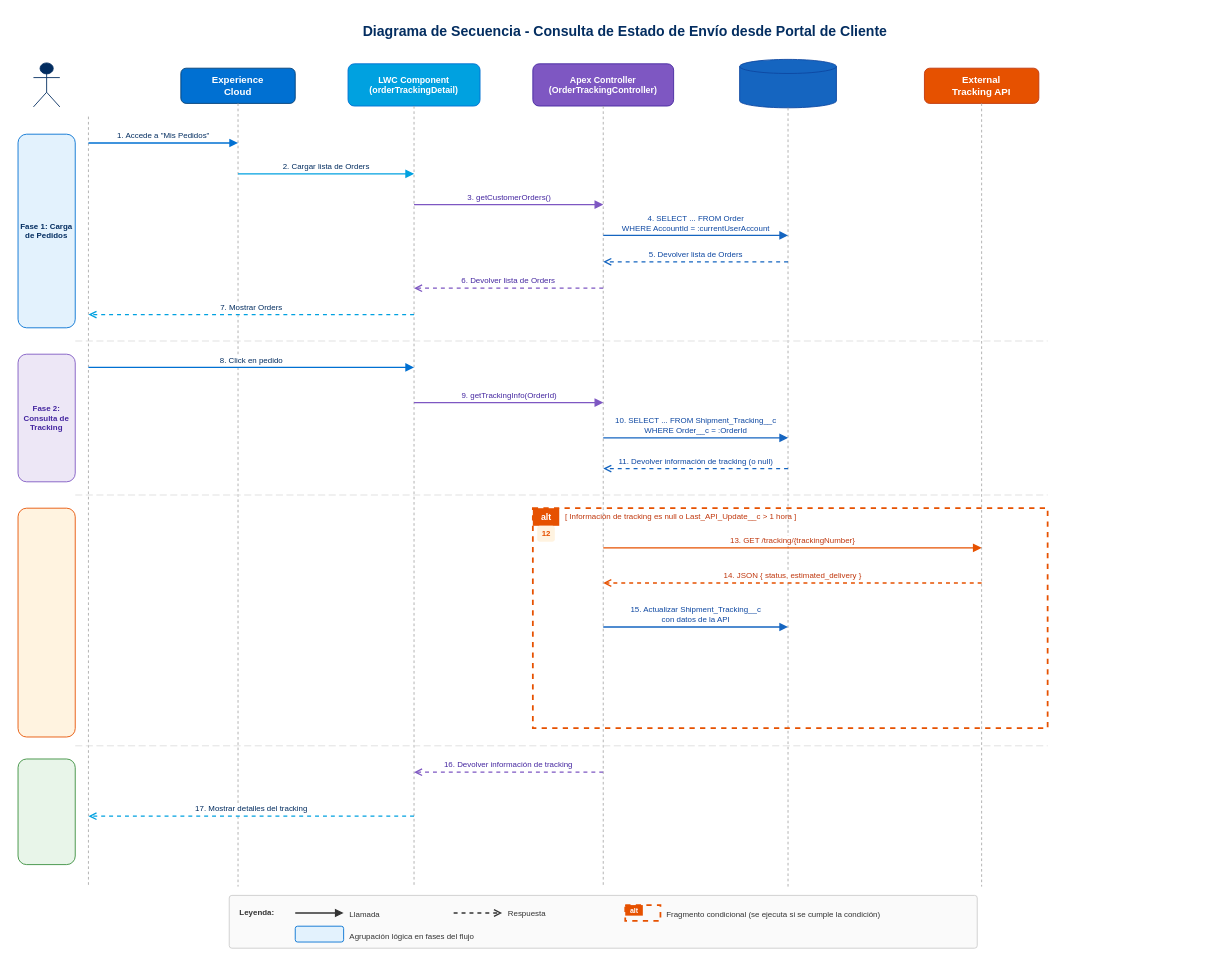
The diagram is 1221 pixels wide and 964 high, and some of its shapes have lost their labels. Each missing label, with the centre of its shape:
Cliente Portal: pixel 46 84
Fase 3: Integración API (condicional): pixel 46 622
Fase 4: Respuesta al Cliente: pixel 46 811
Fase N: pixel 319 933
Salesforce DB: pixel 787 83
